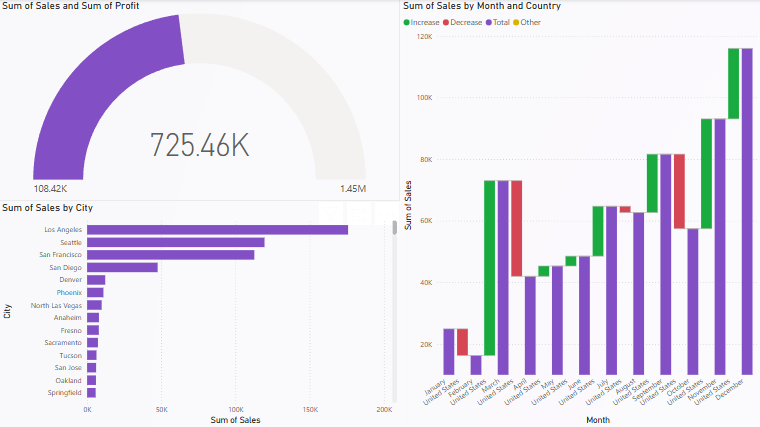

What the dashboard file says about the page in this screenshot:
{"tool":"powerbi","page":{"name":"Page 2","canvas":[1280,720],"ordinal":1},"visuals":[{"type":"gauge","fields":{"Y":["Sum(Walmart.Sales)"],"MinValue":["Sum(Walmart.Profit)"]},"box":[0,0,673.6,339.3],"z":0},{"type":"barChart","fields":{"Category":["Walmart.City"],"Y":["Sum(Walmart.Sales)"]},"box":[0,339.3,673.6,381.3],"z":1000},{"type":"waterfallChart","fields":{"Breakdown":["Walmart.Country"],"Y":["Sum(Walmart.Sales)"],"Category":["Walmart.Order Date.Variation.Date Hierarchy.Month"]},"box":[673.6,0,606.4,720.6],"z":2000}]}

Visuals, with their boxes in screenshot pixels (x1, y1, x2, y2), scaled from the page's 1280x720 canvas onto the 760x427 screenshot:
gauge - Sum(Walmart.Sales) x Sum(Walmart.Profit): (left=0, top=0, right=400, bottom=201)
barChart - Walmart.City x Sum(Walmart.Sales): (left=0, top=201, right=400, bottom=426)
waterfallChart - Walmart.Country x Sum(Walmart.Sales): (left=400, top=0, right=759, bottom=426)
